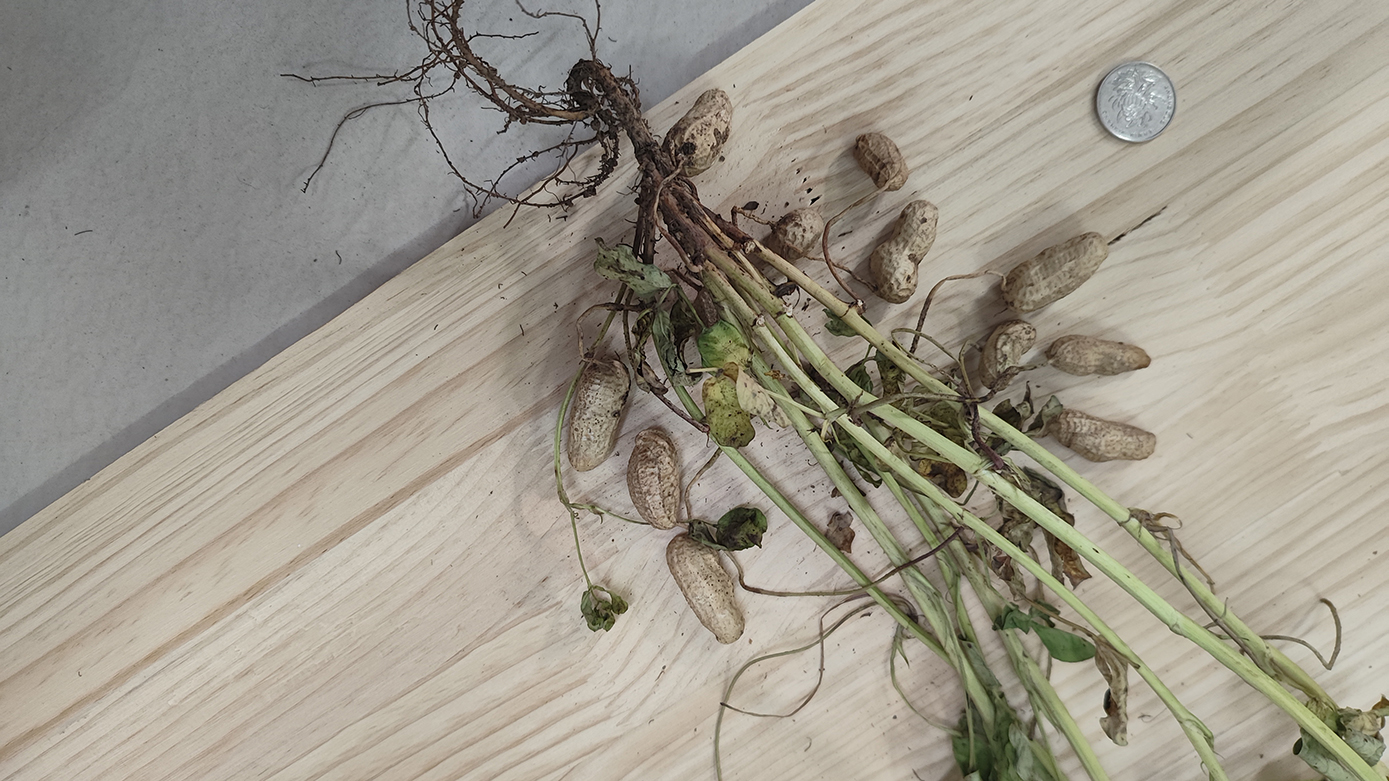h: (998, 233, 1110, 313), (668, 534, 745, 644), (566, 358, 632, 471), (868, 200, 940, 301), (661, 87, 734, 174), (1051, 409, 1157, 463), (628, 428, 682, 529), (1049, 334, 1151, 378), (977, 319, 1038, 389), (855, 131, 909, 191), (770, 207, 824, 259)
